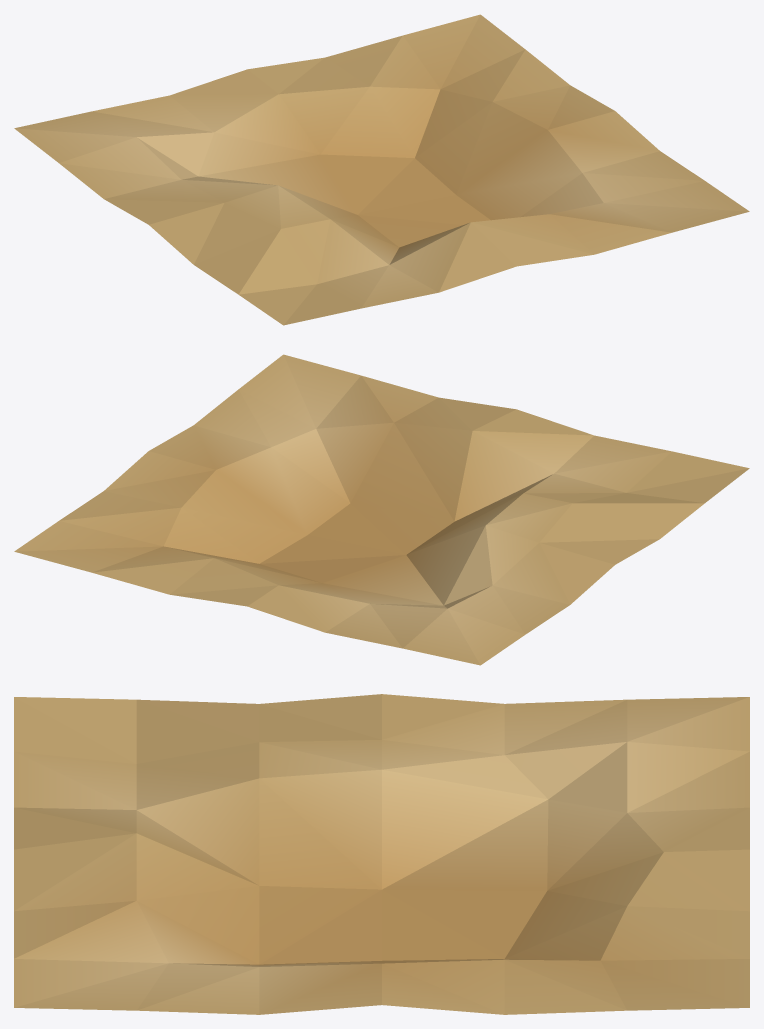
Rendered from Mixed_Ground_06.fbx.
3 renders of one model, top to bottom at view 1: azimuth 30°, elevation 25°; view 2: azimuth 150°, elevation 25°; view 3: azimuth 270°, elevation 25°, orthographic. The views are drawn at different scales.
Visible parts, largest first — view 1: Ground_06.001; view 2: Ground_06.001; view 3: Ground_06.001.
Part boxes in pixels (x1,y1,x2,y2): Ground_06.001: (14, 14, 749, 325); Ground_06.001: (14, 354, 749, 665); Ground_06.001: (14, 694, 749, 1014).
Bounding box in the file's own units: 1000 × 120 × 1000.
